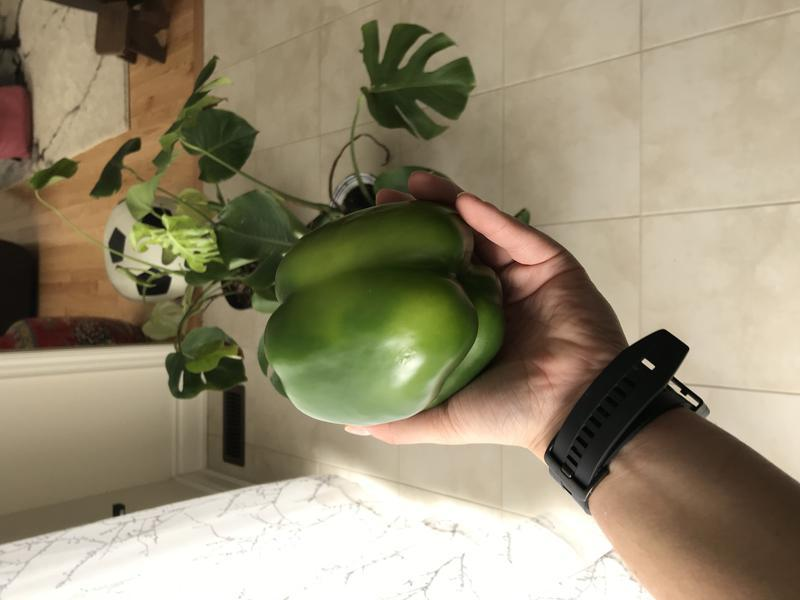green_pepper: (246, 191, 517, 425)
